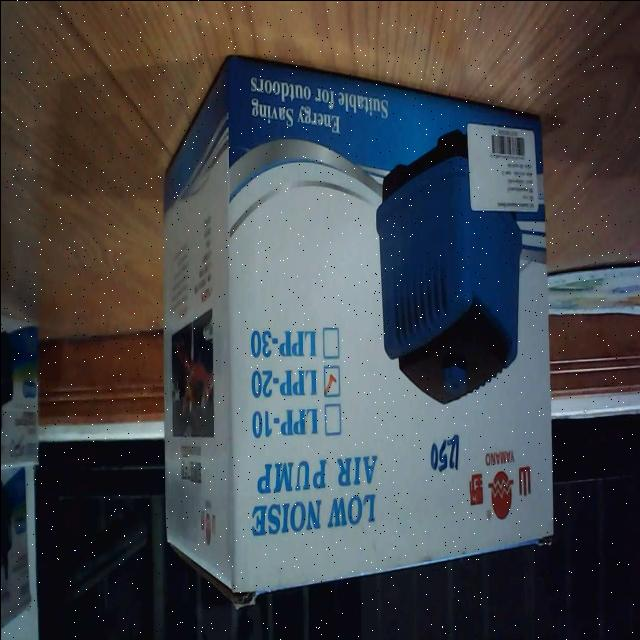YAMANO_LPP_20: (141, 51, 564, 593)
